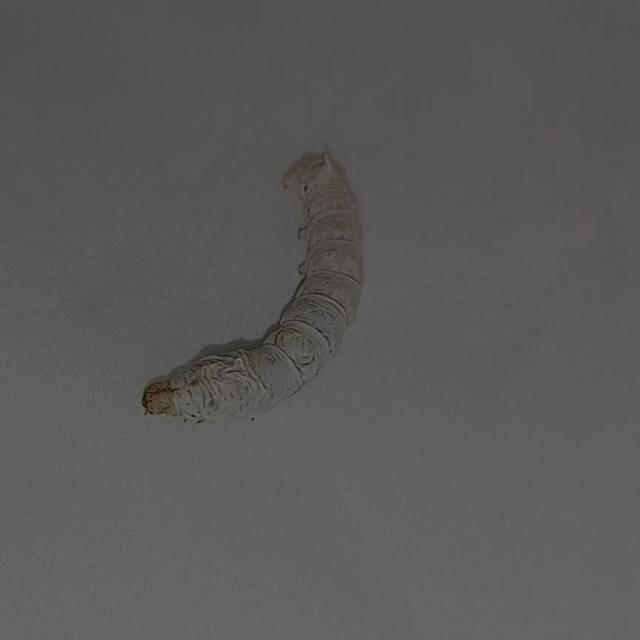Healthy: (128, 146, 382, 444)
